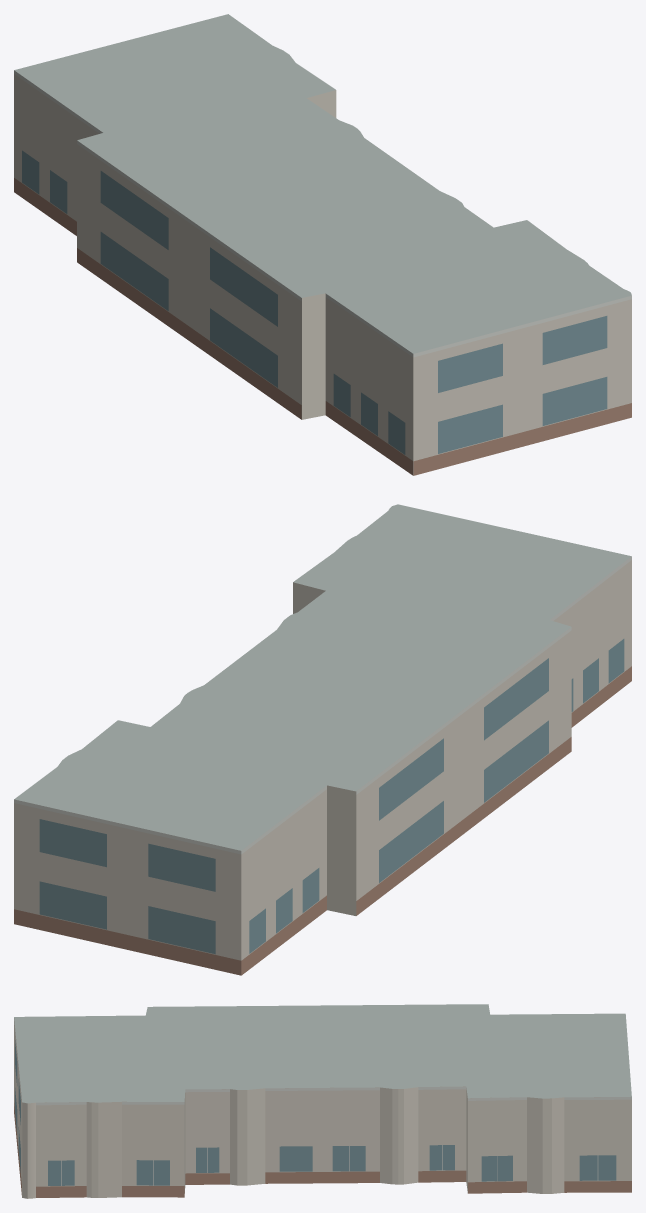
Rendered from survey-upis-32958143.glb.
The picture shows the model from 3 angles, top to bottom: view 1: azimuth 30°, elevation 25°; view 2: azimuth 150°, elevation 25°; view 3: azimuth 270°, elevation 25°; orthographic projection. The views are drawn at different scales.
Visible parts, largest first — view 1: survey-upis-32958143.tmp; view 2: survey-upis-32958143.tmp; view 3: survey-upis-32958143.tmp.
Part boxes in pixels (x1,y1,x2,y2): survey-upis-32958143.tmp: [14, 14, 631, 475]; survey-upis-32958143.tmp: [14, 504, 631, 975]; survey-upis-32958143.tmp: [14, 1004, 631, 1198].
Bounding box in the file's own units: 18.71 × 8.4 × 49.26.
